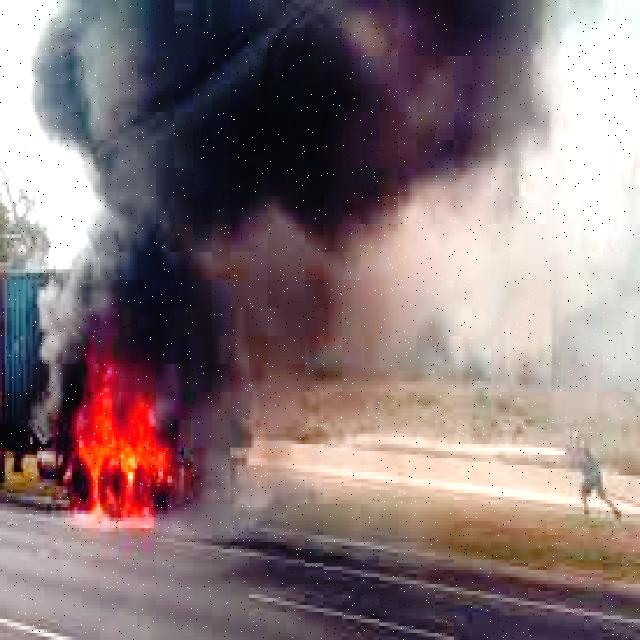api: (57, 333, 199, 533)
